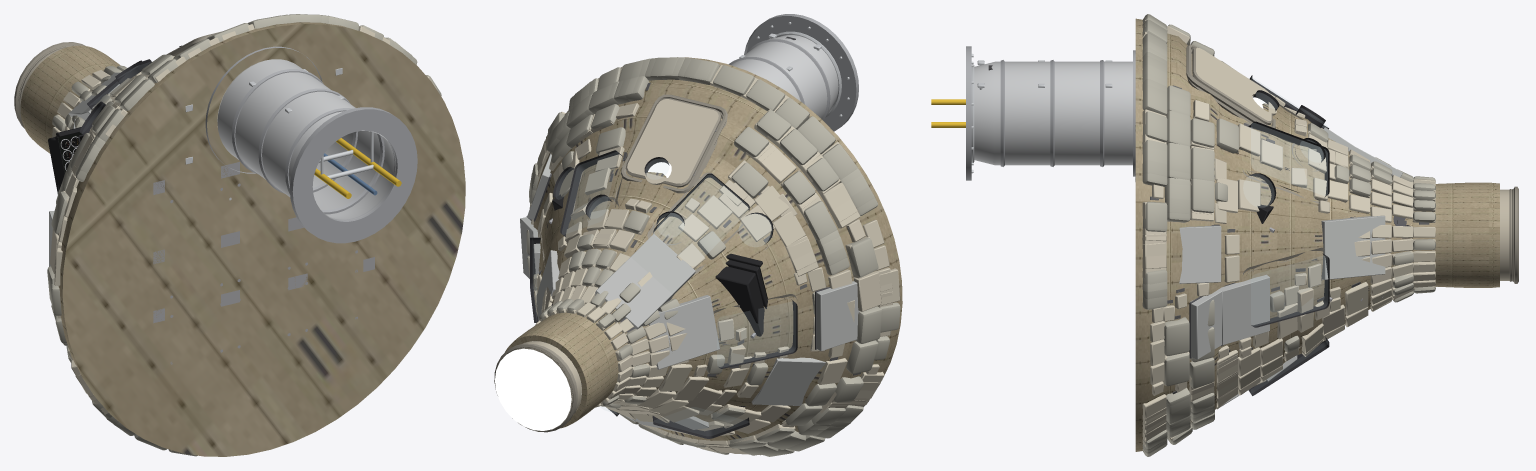
The model's file is apollo.glb.
3 views of the same model, side by side, from view 1: azimuth 30°, elevation 25°; view 2: azimuth 150°, elevation 25°; view 3: azimuth 270°, elevation 25° (orthographic). The views are drawn at different scales.
Visible parts, largest first — view 1: shell_cupola, passage, apollo_walls_cupola, shell_panoramic, apollo_walls_panoramic, apollo_walls_small, panel, apollo_seat, apollo_seat1, hatchframe_top; view 2: apollo_walls_cupola, shell_cupola, apollo_walls_panoramic, apollo_walls_small, passage, shell_panoramic, door_inward, plug_top, glass_panoramic0, glass_panoramic1, glass_panoramic5, panel (+12 smaller); view 3: apollo_walls_cupola, shell_cupola, passage, apollo_walls_small, apollo_walls_panoramic, shell_panoramic, glass_panoramic4, glass_panoramic5, door_inward, docking, frame_panoramic5, frame_panoramic4 (+3 smaller).
Boxes of the visible parts, box(x1,y1,x2,y2) form: shell_cupola: box(58, 22, 465, 456); passage: box(217, 59, 417, 243); apollo_walls_cupola: box(47, 14, 447, 456); shell_panoramic: box(20, 45, 120, 153); apollo_walls_panoramic: box(49, 14, 444, 452); apollo_walls_small: box(52, 25, 383, 360); panel: box(48, 127, 83, 194); apollo_seat: box(153, 162, 239, 323); apollo_seat1: box(221, 165, 307, 306); hatchframe_top: box(14, 42, 85, 128); apollo_walls_cupola: box(526, 57, 884, 456); shell_cupola: box(533, 57, 902, 440); apollo_walls_panoramic: box(520, 57, 900, 455); apollo_walls_small: box(529, 67, 892, 431); passage: box(728, 14, 858, 131); shell_panoramic: box(505, 170, 797, 428); door_inward: box(625, 98, 721, 187); plug_top: box(495, 348, 571, 430); glass_panoramic0: box(654, 175, 748, 265); glass_panoramic1: box(717, 302, 795, 367); glass_panoramic5: box(562, 152, 617, 234); panel: box(715, 253, 767, 338); apollo_walls_cupola: box(1142, 14, 1435, 456); shell_cupola: box(1135, 18, 1382, 451); passage: box(931, 46, 1132, 180); apollo_walls_small: box(1142, 97, 1435, 409); apollo_walls_panoramic: box(1142, 16, 1435, 455); shell_panoramic: box(1243, 119, 1499, 356); glass_panoramic4: box(1251, 256, 1327, 325); glass_panoramic5: box(1251, 123, 1327, 195); door_inward: box(1192, 47, 1276, 124); docking: box(1500, 189, 1513, 281); frame_panoramic5: box(1242, 121, 1329, 203); frame_panoramic4: box(1242, 247, 1329, 327).
Size of the model in its own units: 3.28 by 3.29 by 4.39.
61 materials, 7 textured.
